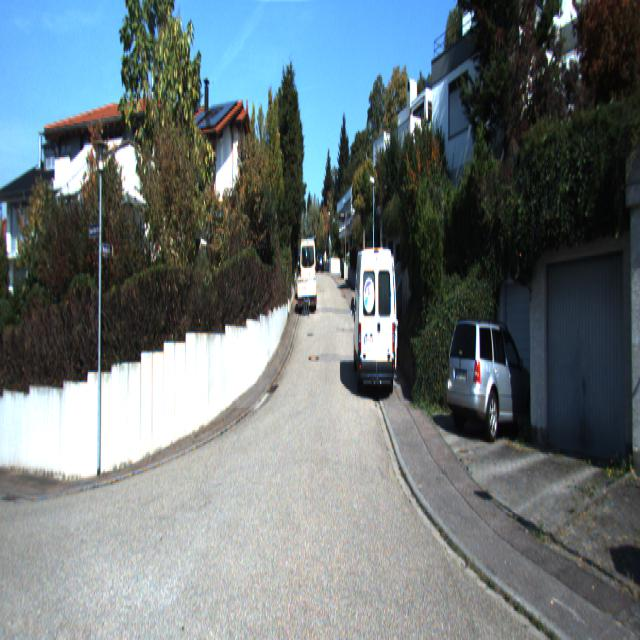Car: (445, 318, 545, 445), (352, 237, 400, 394), (300, 239, 316, 304), (296, 276, 318, 308)
